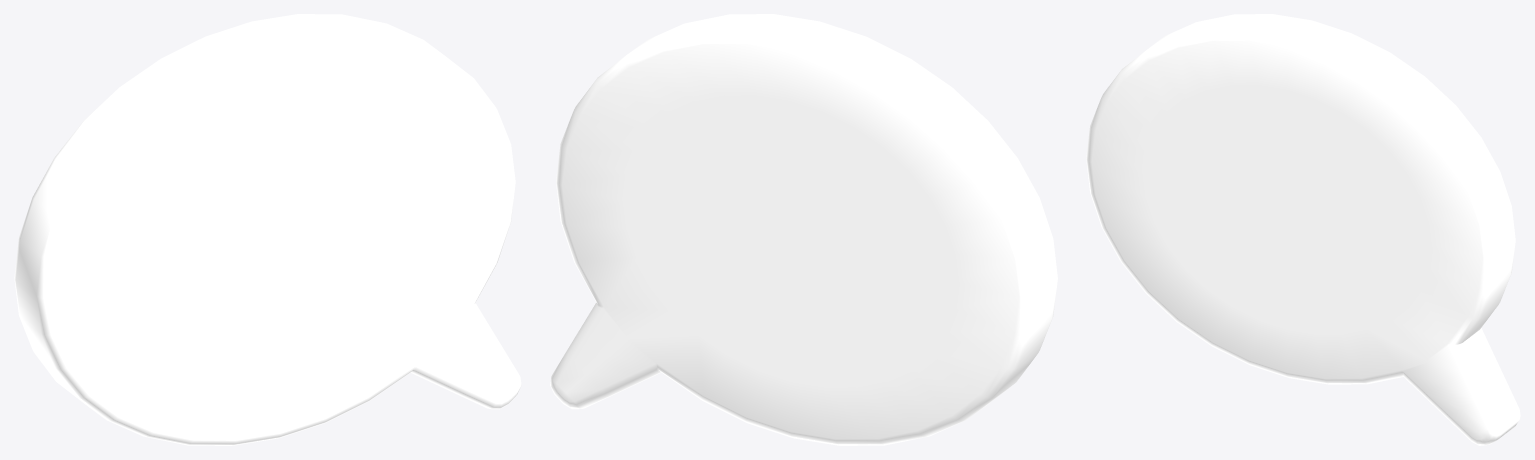
Rendered from left_speech_bubble.glb.
The picture shows the model from 3 angles, left to right: view 1: azimuth 30°, elevation 25°; view 2: azimuth 150°, elevation 25°; view 3: azimuth 330°, elevation 25°; orthographic projection. The views are drawn at different scales.
Visible parts, largest first — view 1: Circle.025; view 2: Circle.025; view 3: Circle.025.
Boxes of the visible parts, x1,y1,x2,y2 form: Circle.025: (14,14,521,445); Circle.025: (550,14,1057,445); Circle.025: (1086,14,1520,445).
Bounding box in the file's own units: 2.03 × 1.7 × 0.235.
Materials: 1 (1 with a texture image).
